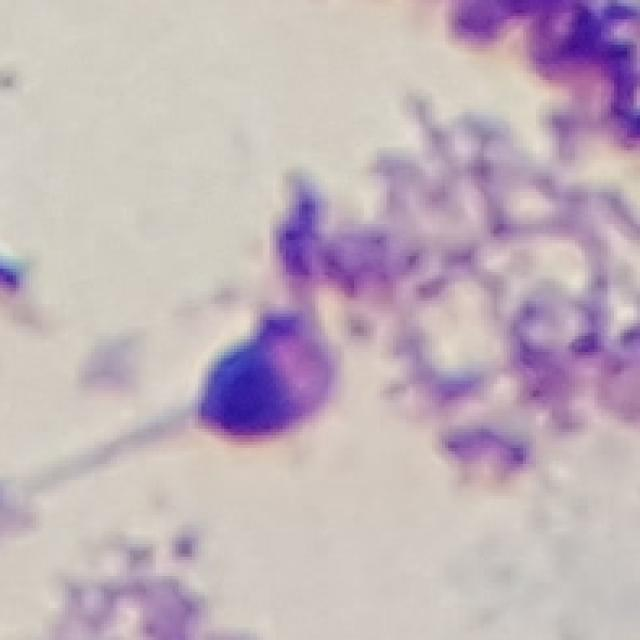normal sperm: (50, 308, 358, 508)
